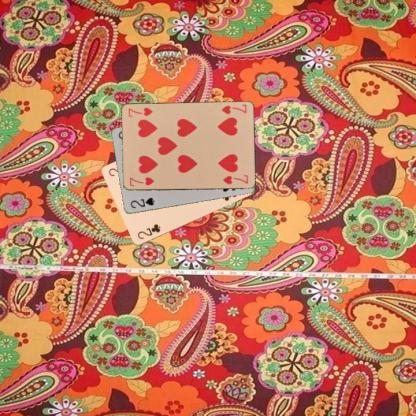2c: (134, 221, 162, 241)
2s: (128, 195, 156, 210)
7h: (218, 102, 248, 116), (127, 175, 155, 187)
